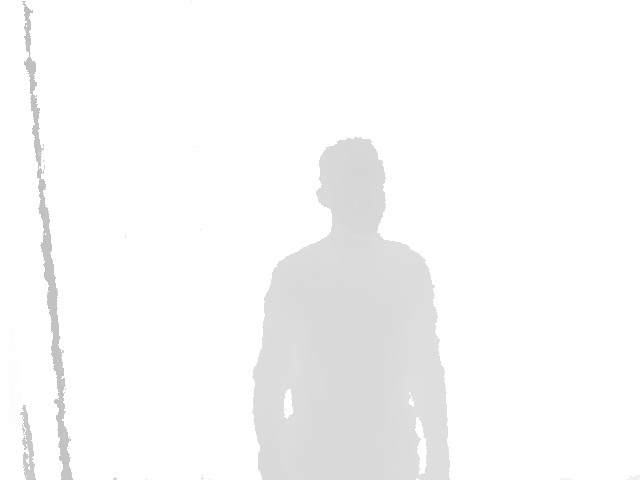head: (317, 136, 387, 237)
person: (251, 135, 454, 480)
